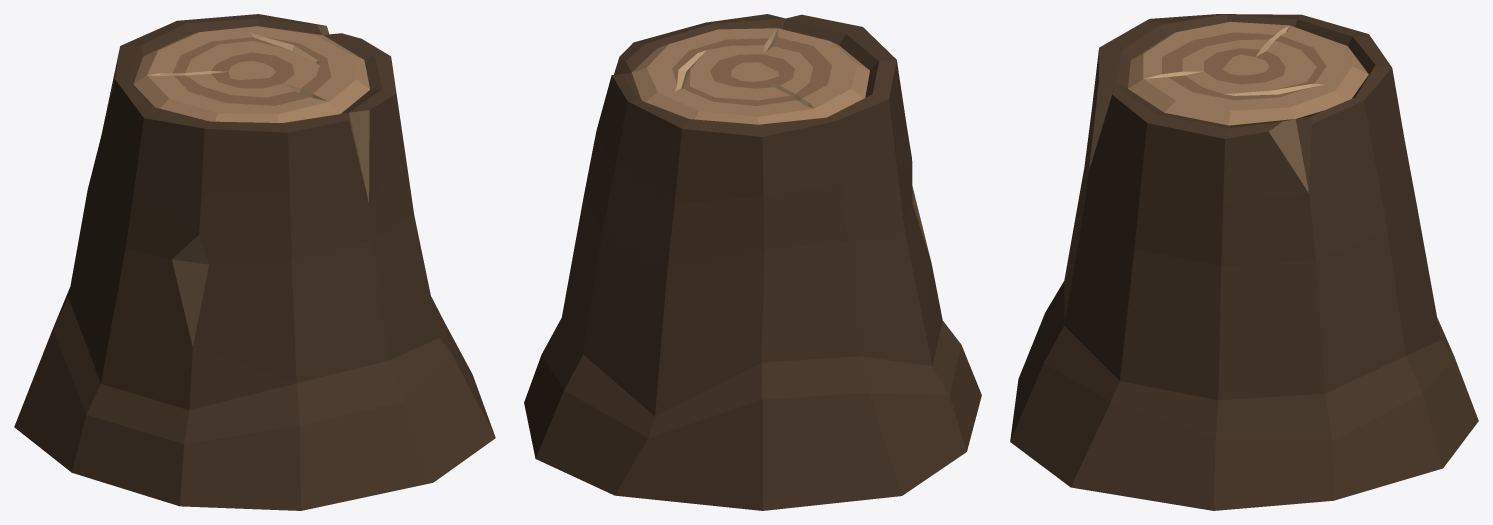
Rendered from SM_Tree_Stump.fbx.
3 renders of one model, left to right at view 1: azimuth 30°, elevation 25°; view 2: azimuth 150°, elevation 25°; view 3: azimuth 270°, elevation 25°, orthographic.
Parts seen in each view (by area): view 1: SM_Tree_Stump; view 2: SM_Tree_Stump; view 3: SM_Tree_Stump.
Boxes of the visible parts, bbox=[...] form: SM_Tree_Stump: bbox=[14, 14, 495, 510]; SM_Tree_Stump: bbox=[524, 14, 981, 510]; SM_Tree_Stump: bbox=[1010, 14, 1478, 510].
Size of the model in its own units: 78.92 by 64.39 by 79.3.
